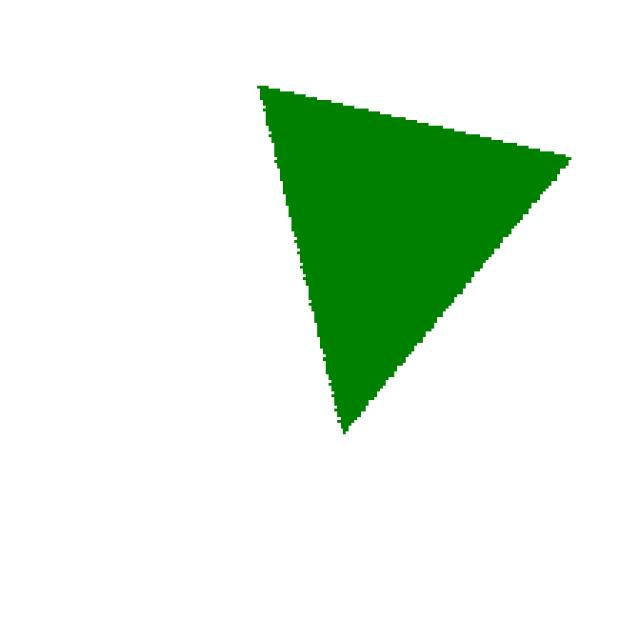Triangle: (244, 62, 600, 474)
